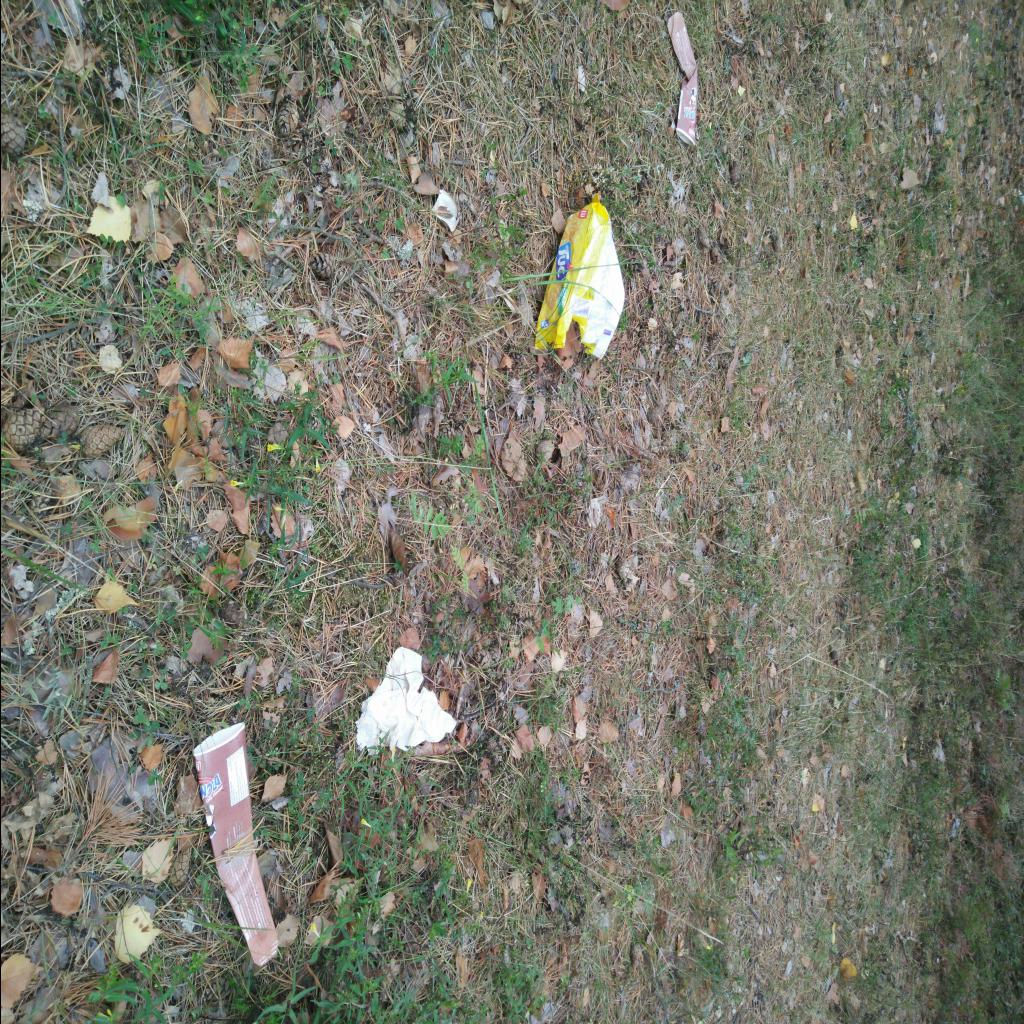Normal paper: (354, 646, 456, 754)
Other plastic: (534, 188, 624, 356)
